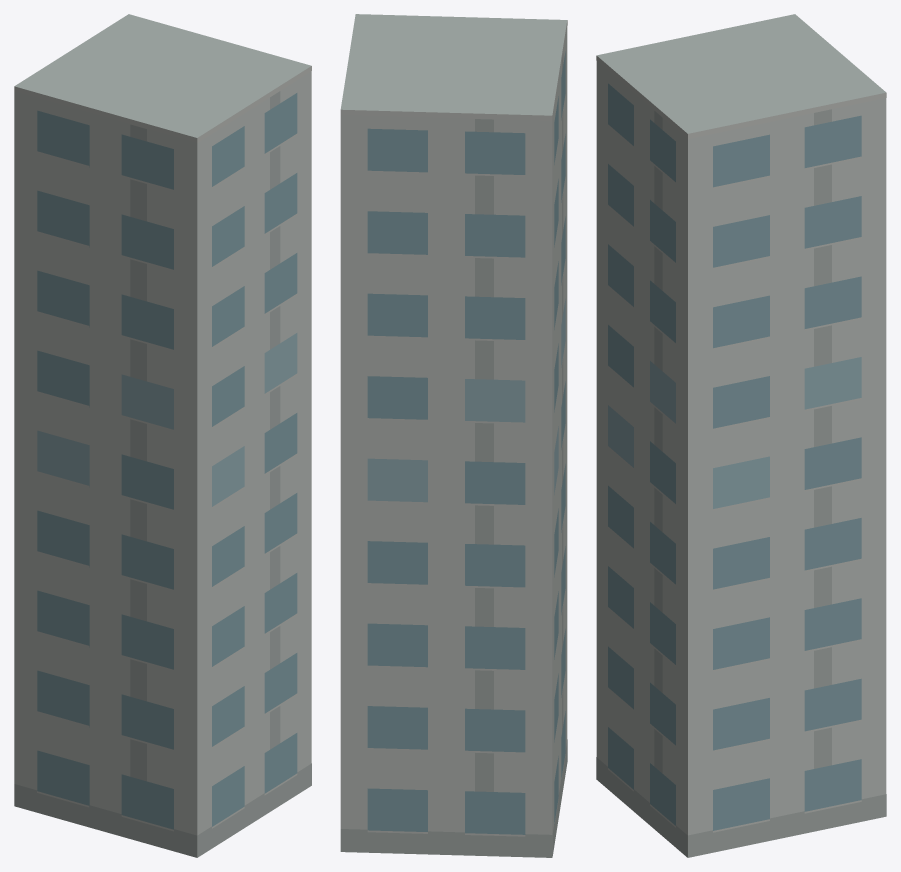
Rendered from residential-0c67782a-cf78-4181-9bac-774e8f0f4a72.glb.
3 views of the same model, side by side, from view 1: azimuth 30°, elevation 25°; view 2: azimuth 150°, elevation 25°; view 3: azimuth 270°, elevation 25° (orthographic). The views are drawn at different scales.
Visible parts, largest first — view 1: residential-0c67782a-cf78-4181-9bac-774e8f0f4a72.tmp; view 2: residential-0c67782a-cf78-4181-9bac-774e8f0f4a72.tmp; view 3: residential-0c67782a-cf78-4181-9bac-774e8f0f4a72.tmp.
Part boxes in pixels (left/top/right/bottom): residential-0c67782a-cf78-4181-9bac-774e8f0f4a72.tmp: left=14, top=14, right=311, bottom=857; residential-0c67782a-cf78-4181-9bac-774e8f0f4a72.tmp: left=340, top=14, right=567, bottom=857; residential-0c67782a-cf78-4181-9bac-774e8f0f4a72.tmp: left=596, top=14, right=886, bottom=857.
Bounding box in the file's own units: 11.72 × 33 × 11.99.
